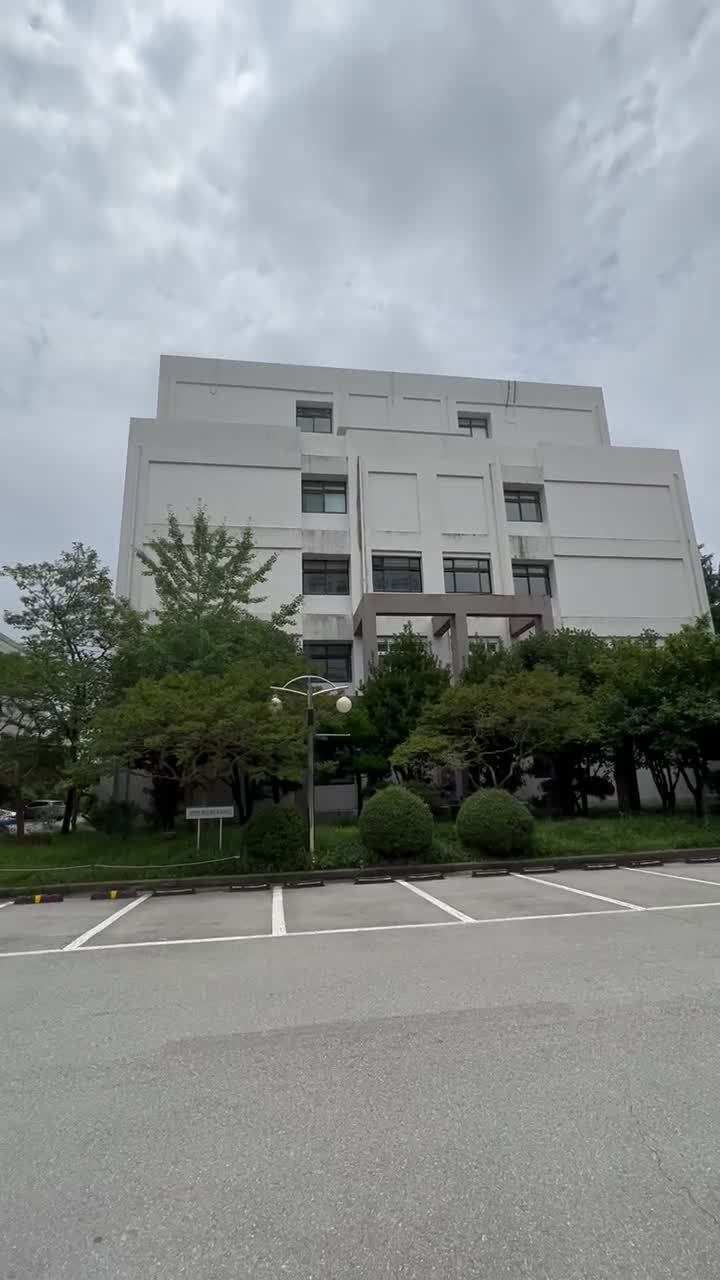low: (98, 326, 708, 650)
